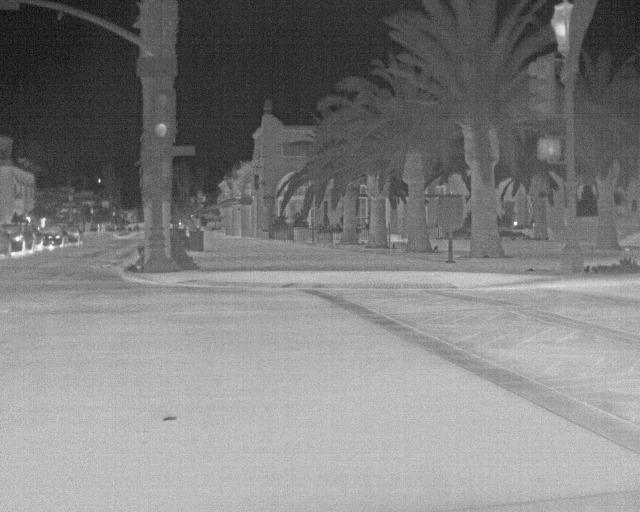car: (1, 223, 33, 255), (22, 223, 43, 253), (40, 226, 64, 248), (0, 226, 13, 257), (64, 225, 80, 245)
light: (527, 61, 551, 115), (155, 93, 170, 143), (537, 137, 561, 160)
sign: (136, 56, 177, 77), (167, 146, 195, 157), (0, 0, 20, 11)
